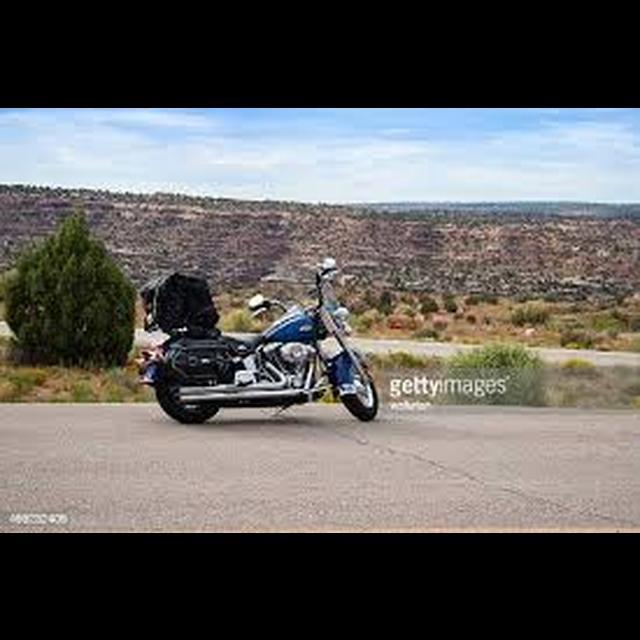motorcycle: (129, 255, 384, 430)
